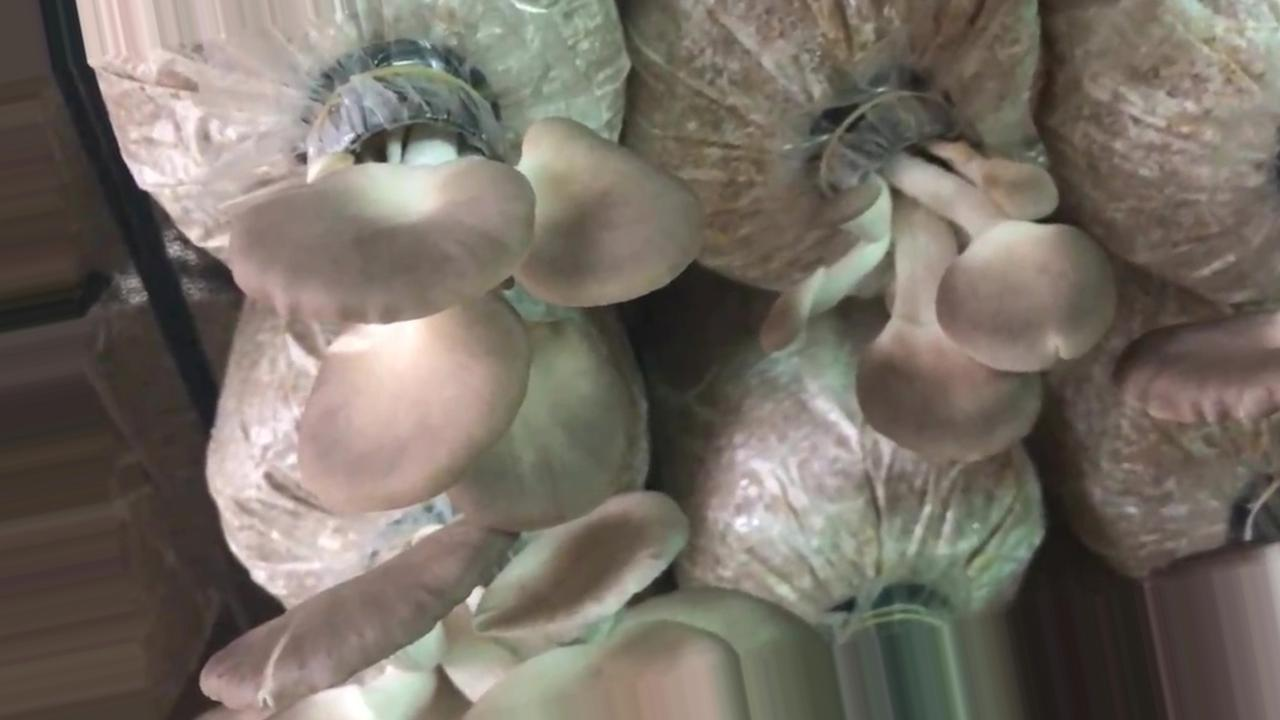nam: (230, 56, 710, 509), (197, 491, 832, 720), (738, 85, 1118, 463)
